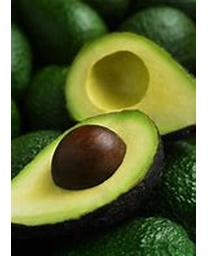avocado: (12, 110, 169, 239), (64, 31, 195, 141)
